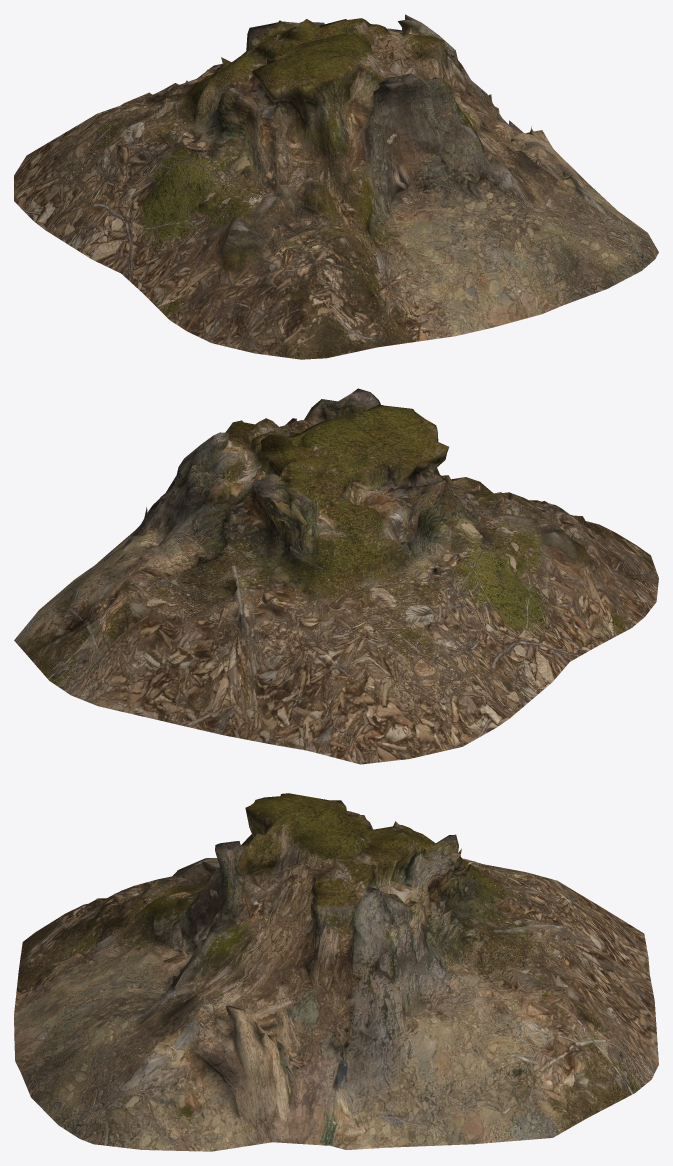
Rendered from tree_stump_01_lod.glb.
The picture shows the model from 3 angles, top to bottom: view 1: azimuth 30°, elevation 25°; view 2: azimuth 150°, elevation 25°; view 3: azimuth 270°, elevation 25°; orthographic projection. The views are drawn at different scales.
Visible parts, largest first — view 1: tree_stump_01; view 2: tree_stump_01; view 3: tree_stump_01.
Boxes of the visible parts, x1,y1,x2,y2 form: tree_stump_01: (14,14,658,359); tree_stump_01: (14,388,658,764); tree_stump_01: (14,793,658,1151).
Size of the model in its own units: 1.43 by 0.571 by 1.59.
Materials: 1 (1 with a texture image).
